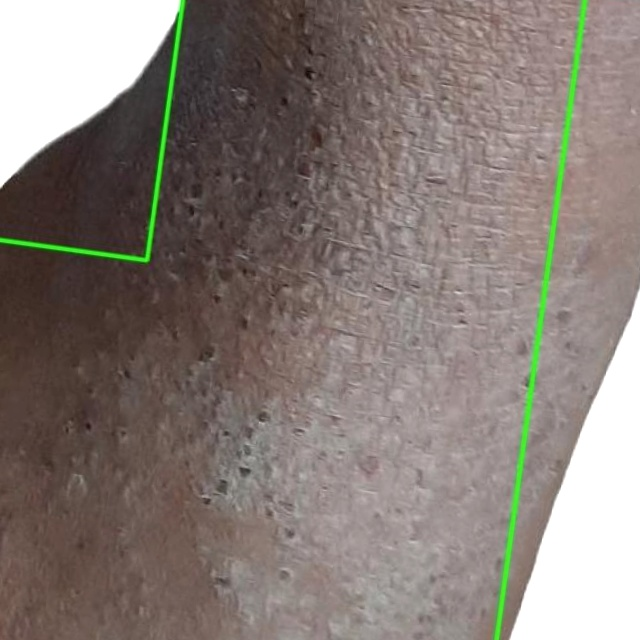Contact Dermatitis: (0, 0, 183, 259)
